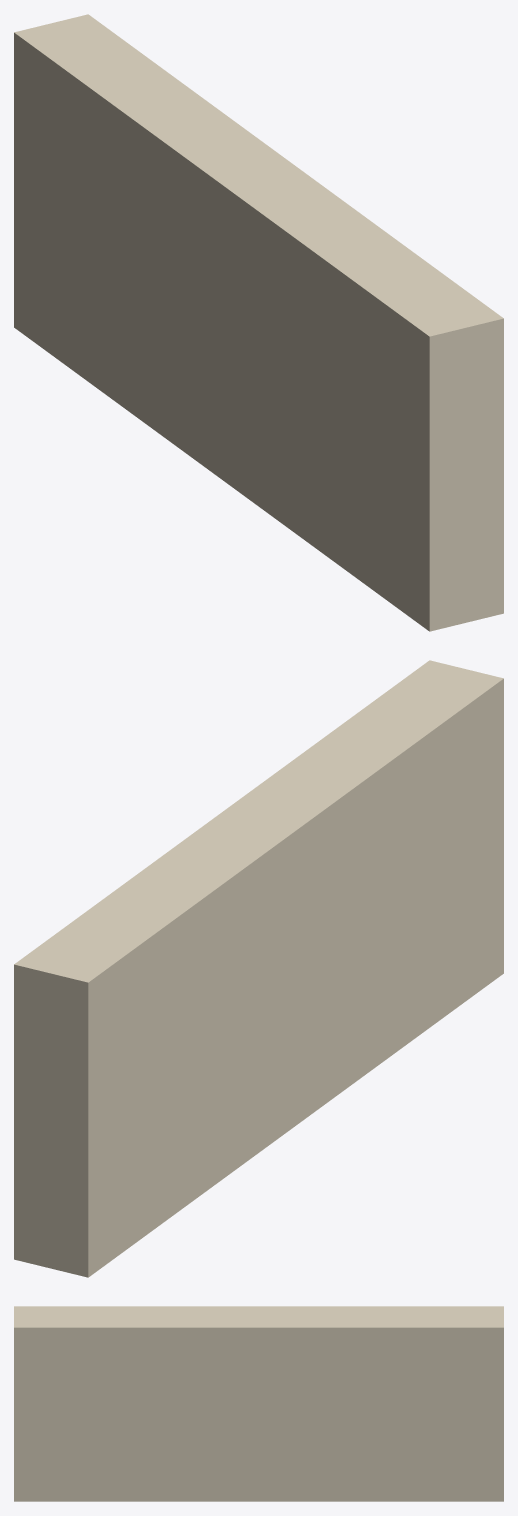
3 views of the same model, one above another, from view 1: azimuth 30°, elevation 25°; view 2: azimuth 150°, elevation 25°; view 3: azimuth 270°, elevation 25° (orthographic). The views are drawn at different scales.
Parts seen in each view (by area): view 1: A-GF-WINDOW-003-HEAD; view 2: A-GF-WINDOW-003-HEAD; view 3: A-GF-WINDOW-003-HEAD.
Part boxes in pixels (x1,y1,x2,y2): A-GF-WINDOW-003-HEAD: (14, 14, 503, 631); A-GF-WINDOW-003-HEAD: (14, 660, 503, 1277); A-GF-WINDOW-003-HEAD: (14, 1306, 503, 1501).
Bounding box in the file's own units: 0.124 × 0.47 × 1.2.
